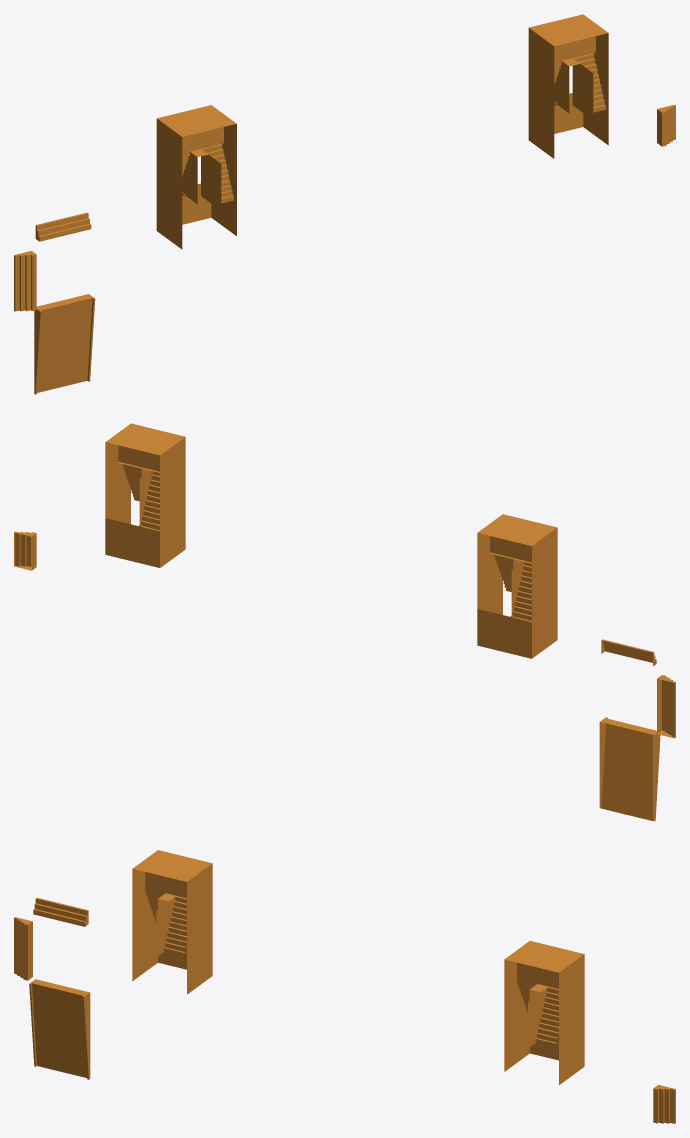
The model's file is stair.obj.
3 views of the same model, one above another, from view 1: azimuth 30°, elevation 25°; view 2: azimuth 150°, elevation 25°; view 3: azimuth 330°, elevation 25° (orthographic).
Visible parts, largest first — view 1: Stair; view 2: Stair; view 3: Stair.
Boxes of the visible parts, x1=… form: Stair: x1=14, y1=14, x2=675, y2=394; Stair: x1=14, y1=423, x2=675, y2=821; Stair: x1=14, y1=850, x2=675, y2=1123.
Bounding box in the file's own units: 44776 × 15898 × 3900.
